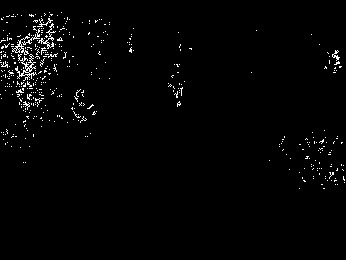person: (70, 85, 106, 146), (166, 58, 193, 110)
